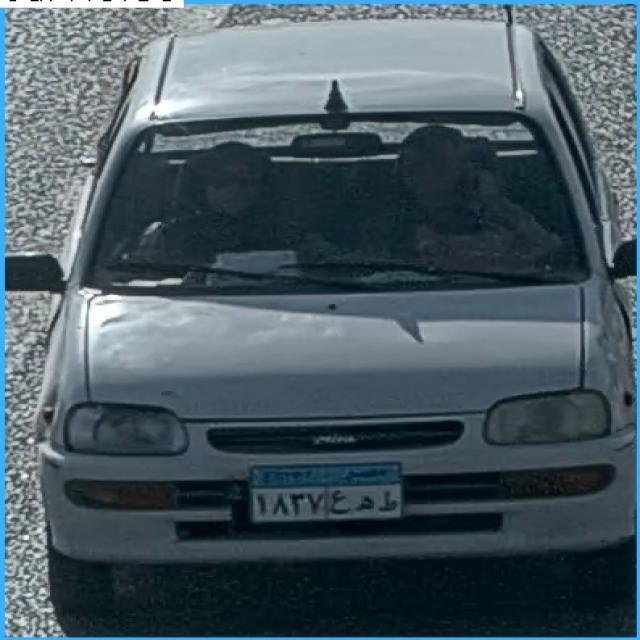windshield: (63, 106, 588, 300)
